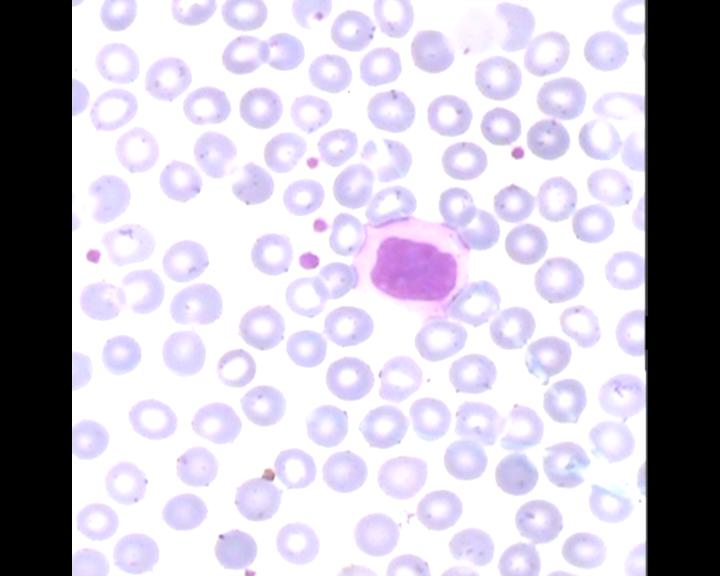mono: (351, 210, 469, 316)
